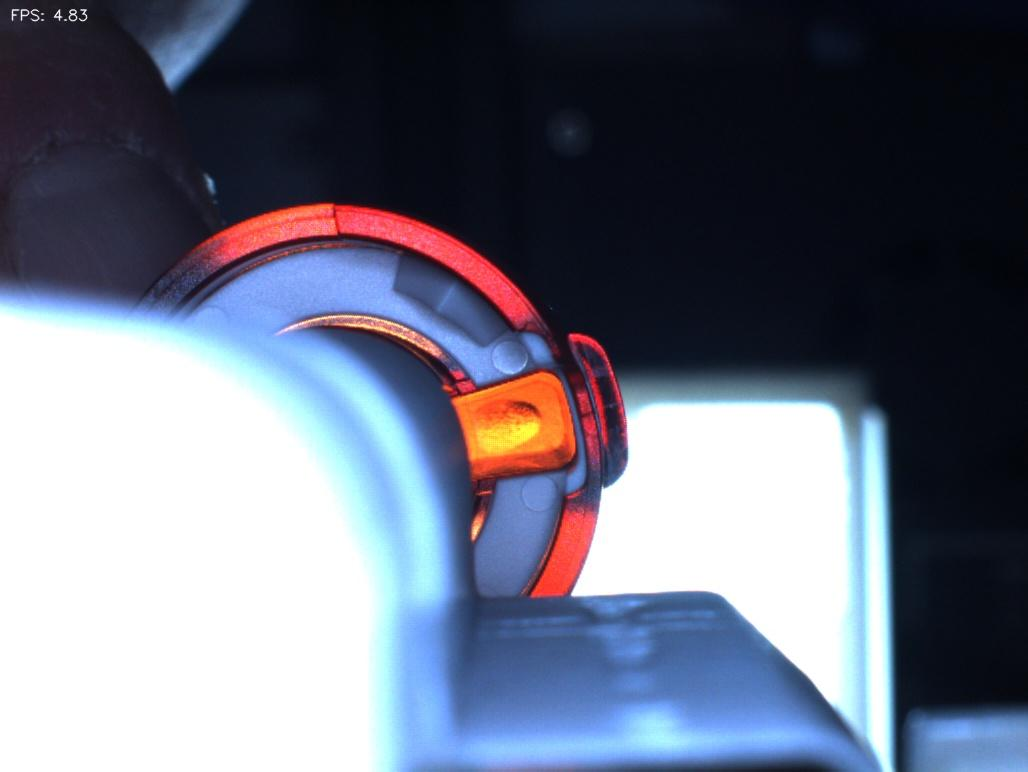Retassure: (464, 384, 553, 472)
